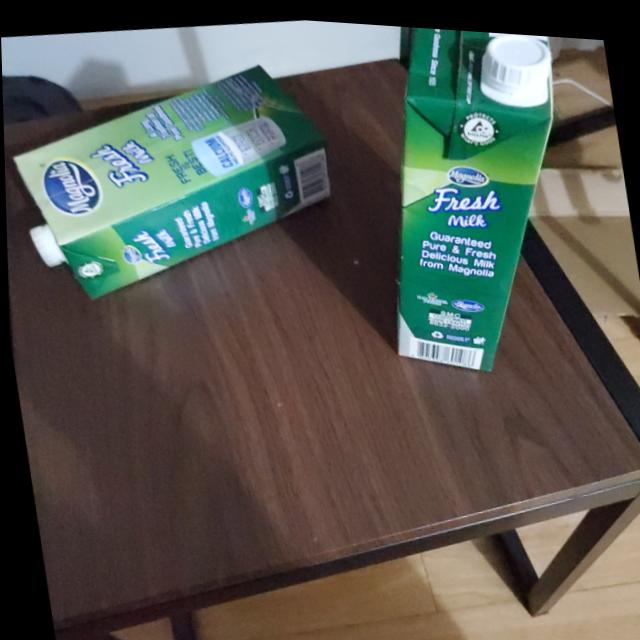milk: (1, 33, 351, 316), (339, 18, 594, 378)
